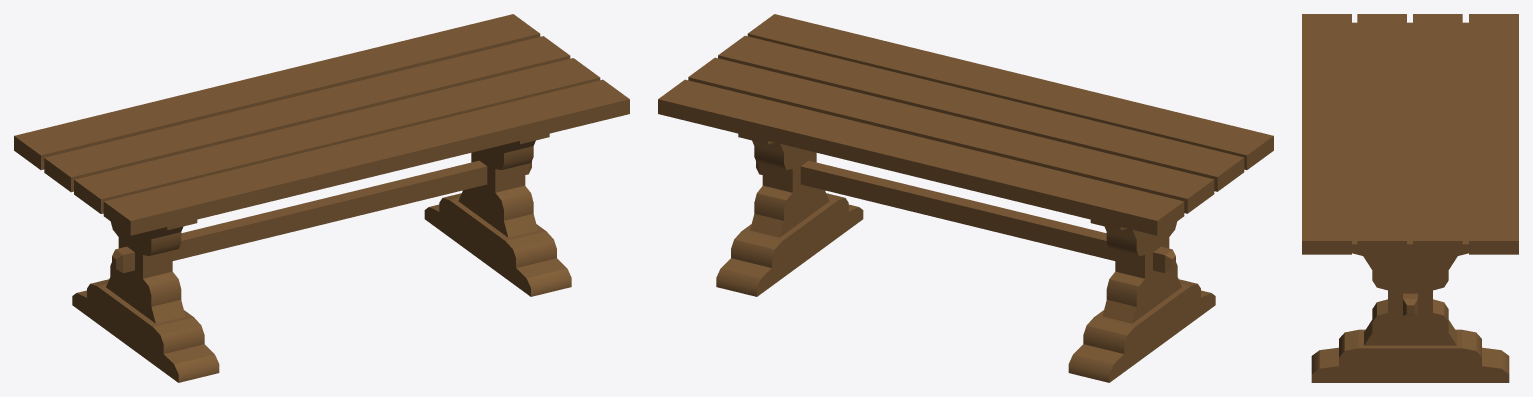
File: Wooden Table.fbx
The picture shows the model from 3 angles, left to right: view 1: azimuth 30°, elevation 25°; view 2: azimuth 150°, elevation 25°; view 3: azimuth 270°, elevation 25°; orthographic projection. The views are drawn at different scales.
Parts seen in each view (by area): view 1: Table; view 2: Table; view 3: Table.
Part boxes in pixels (x1,y1,x2,y2): Table: (14, 14, 629, 382); Table: (658, 14, 1273, 382); Table: (1302, 14, 1518, 382).
Size of the model in its own units: 8.5 by 2.91 by 3.43.
